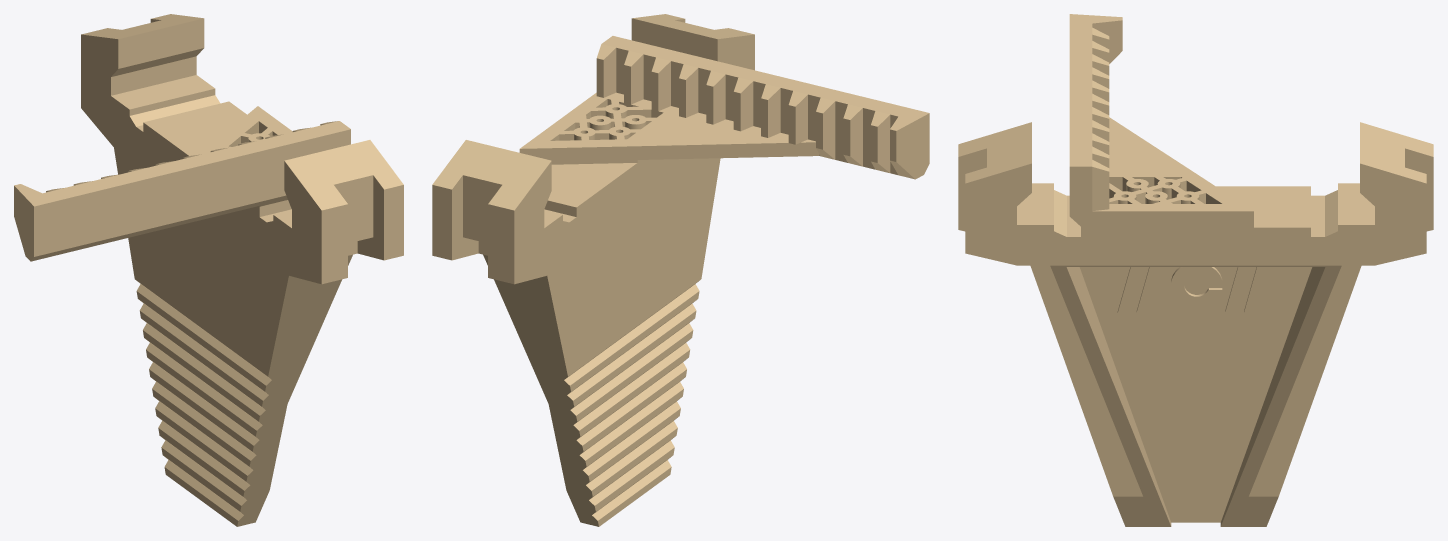
File: Gripper2_Jaw.dae
3 renders of one model, left to right at view 1: azimuth 30°, elevation 25°; view 2: azimuth 150°, elevation 25°; view 3: azimuth 270°, elevation 25°, orthographic.
Parts seen in each view (by area): view 1: g Body1; view 2: g Body1; view 3: g Body1.
Part boxes in pixels (box(x1,y1,x2,y2)): g Body1: box(14, 14, 403, 526); g Body1: box(432, 14, 929, 526); g Body1: box(958, 14, 1433, 526).
Bounding box in the file's own units: 4.8 × 5.8 × 6.31.
